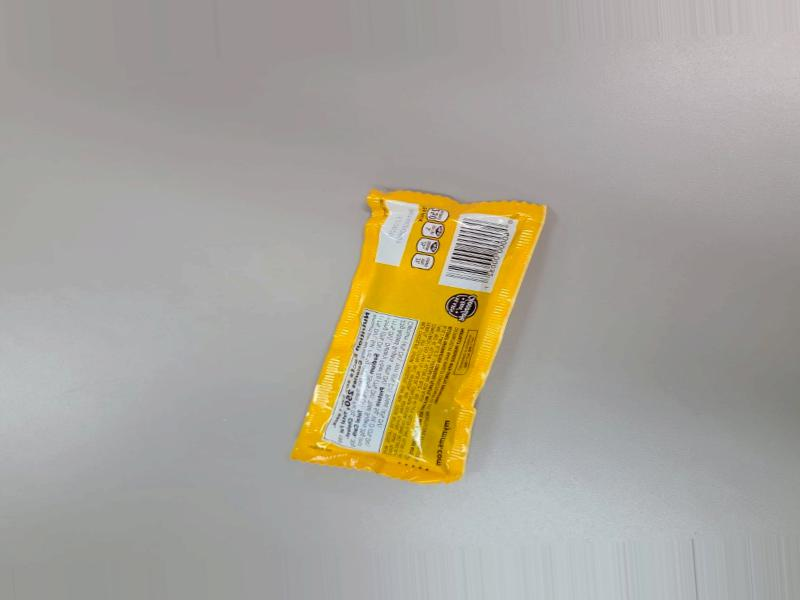m&m: (277, 161, 527, 490)
